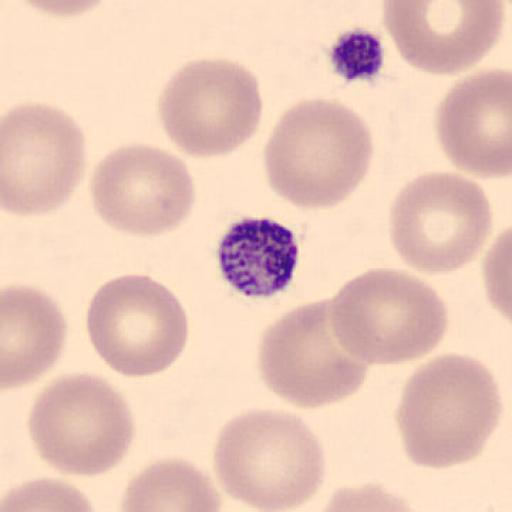Platelet: (213, 212, 302, 300), (324, 24, 388, 87)
RBC: (256, 297, 374, 410), (262, 96, 376, 211), (394, 352, 503, 470), (211, 406, 328, 512), (329, 266, 450, 367), (26, 370, 138, 479), (387, 168, 493, 276), (156, 56, 264, 160), (86, 272, 190, 380), (88, 140, 196, 239), (2, 99, 89, 217), (381, 0, 504, 76), (435, 66, 512, 180), (2, 282, 69, 392), (118, 455, 223, 512), (312, 479, 431, 512), (2, 475, 98, 512), (480, 224, 512, 325), (13, 0, 115, 18)
